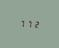seven: (26, 19, 32, 28), (18, 19, 24, 27)
two: (33, 20, 39, 28)
